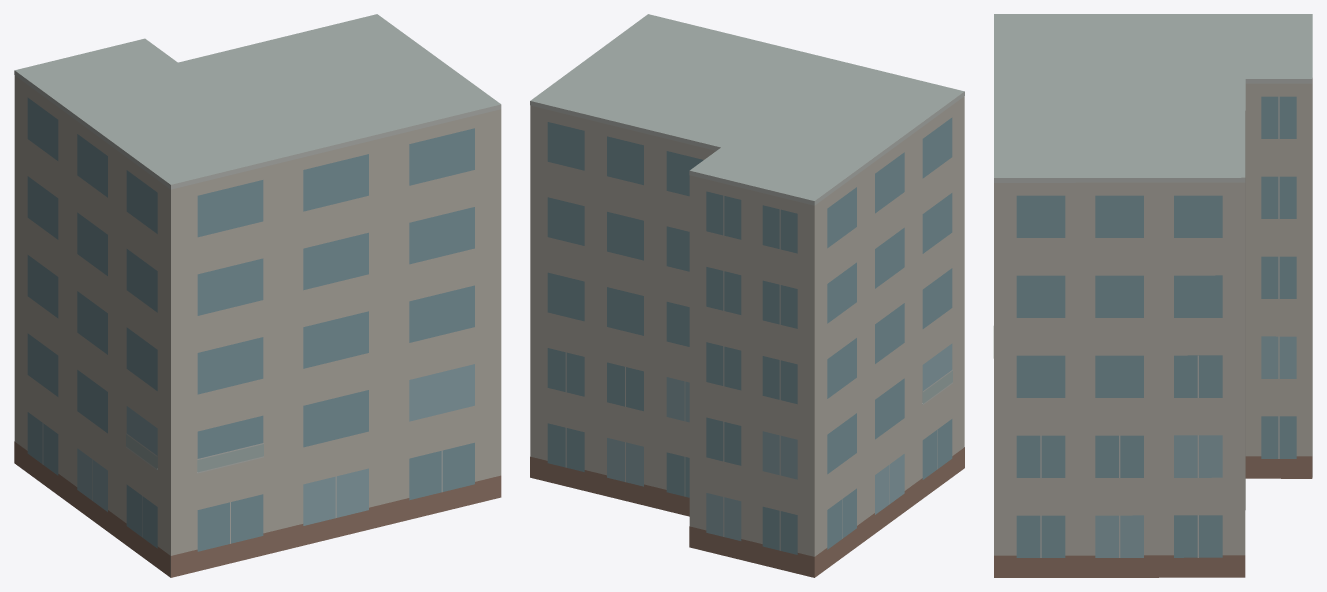
The model's file is survey-upis-32686044.glb.
3 views of the same model, side by side, from view 1: azimuth 30°, elevation 25°; view 2: azimuth 150°, elevation 25°; view 3: azimuth 270°, elevation 25° (orthographic). The views are drawn at different scales.
Parts seen in each view (by area): view 1: survey-upis-32686044.tmp; view 2: survey-upis-32686044.tmp; view 3: survey-upis-32686044.tmp.
Part boxes in pixels (x1,y1,x2,y2): survey-upis-32686044.tmp: [14, 14, 501, 577]; survey-upis-32686044.tmp: [530, 14, 964, 577]; survey-upis-32686044.tmp: [993, 14, 1312, 577].
Bounding box in the file's own units: 17.72 × 20.09 × 14.55.
